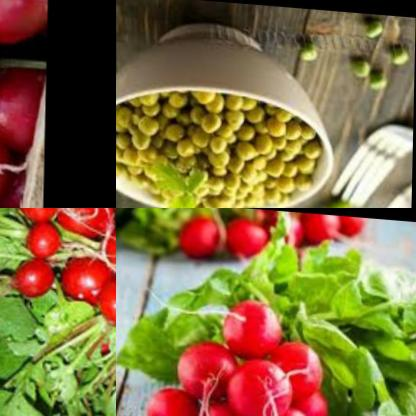peas: (116, 74, 328, 208), (249, 189, 360, 208), (352, 53, 388, 87), (357, 16, 387, 41), (294, 35, 326, 58), (389, 42, 415, 66)
rediska: (12, 208, 116, 398), (173, 208, 365, 272), (0, 0, 49, 208), (175, 335, 244, 403), (208, 290, 280, 355), (227, 347, 292, 416), (270, 335, 327, 395), (143, 384, 204, 416), (198, 392, 268, 416), (290, 378, 329, 416), (261, 398, 319, 416)
